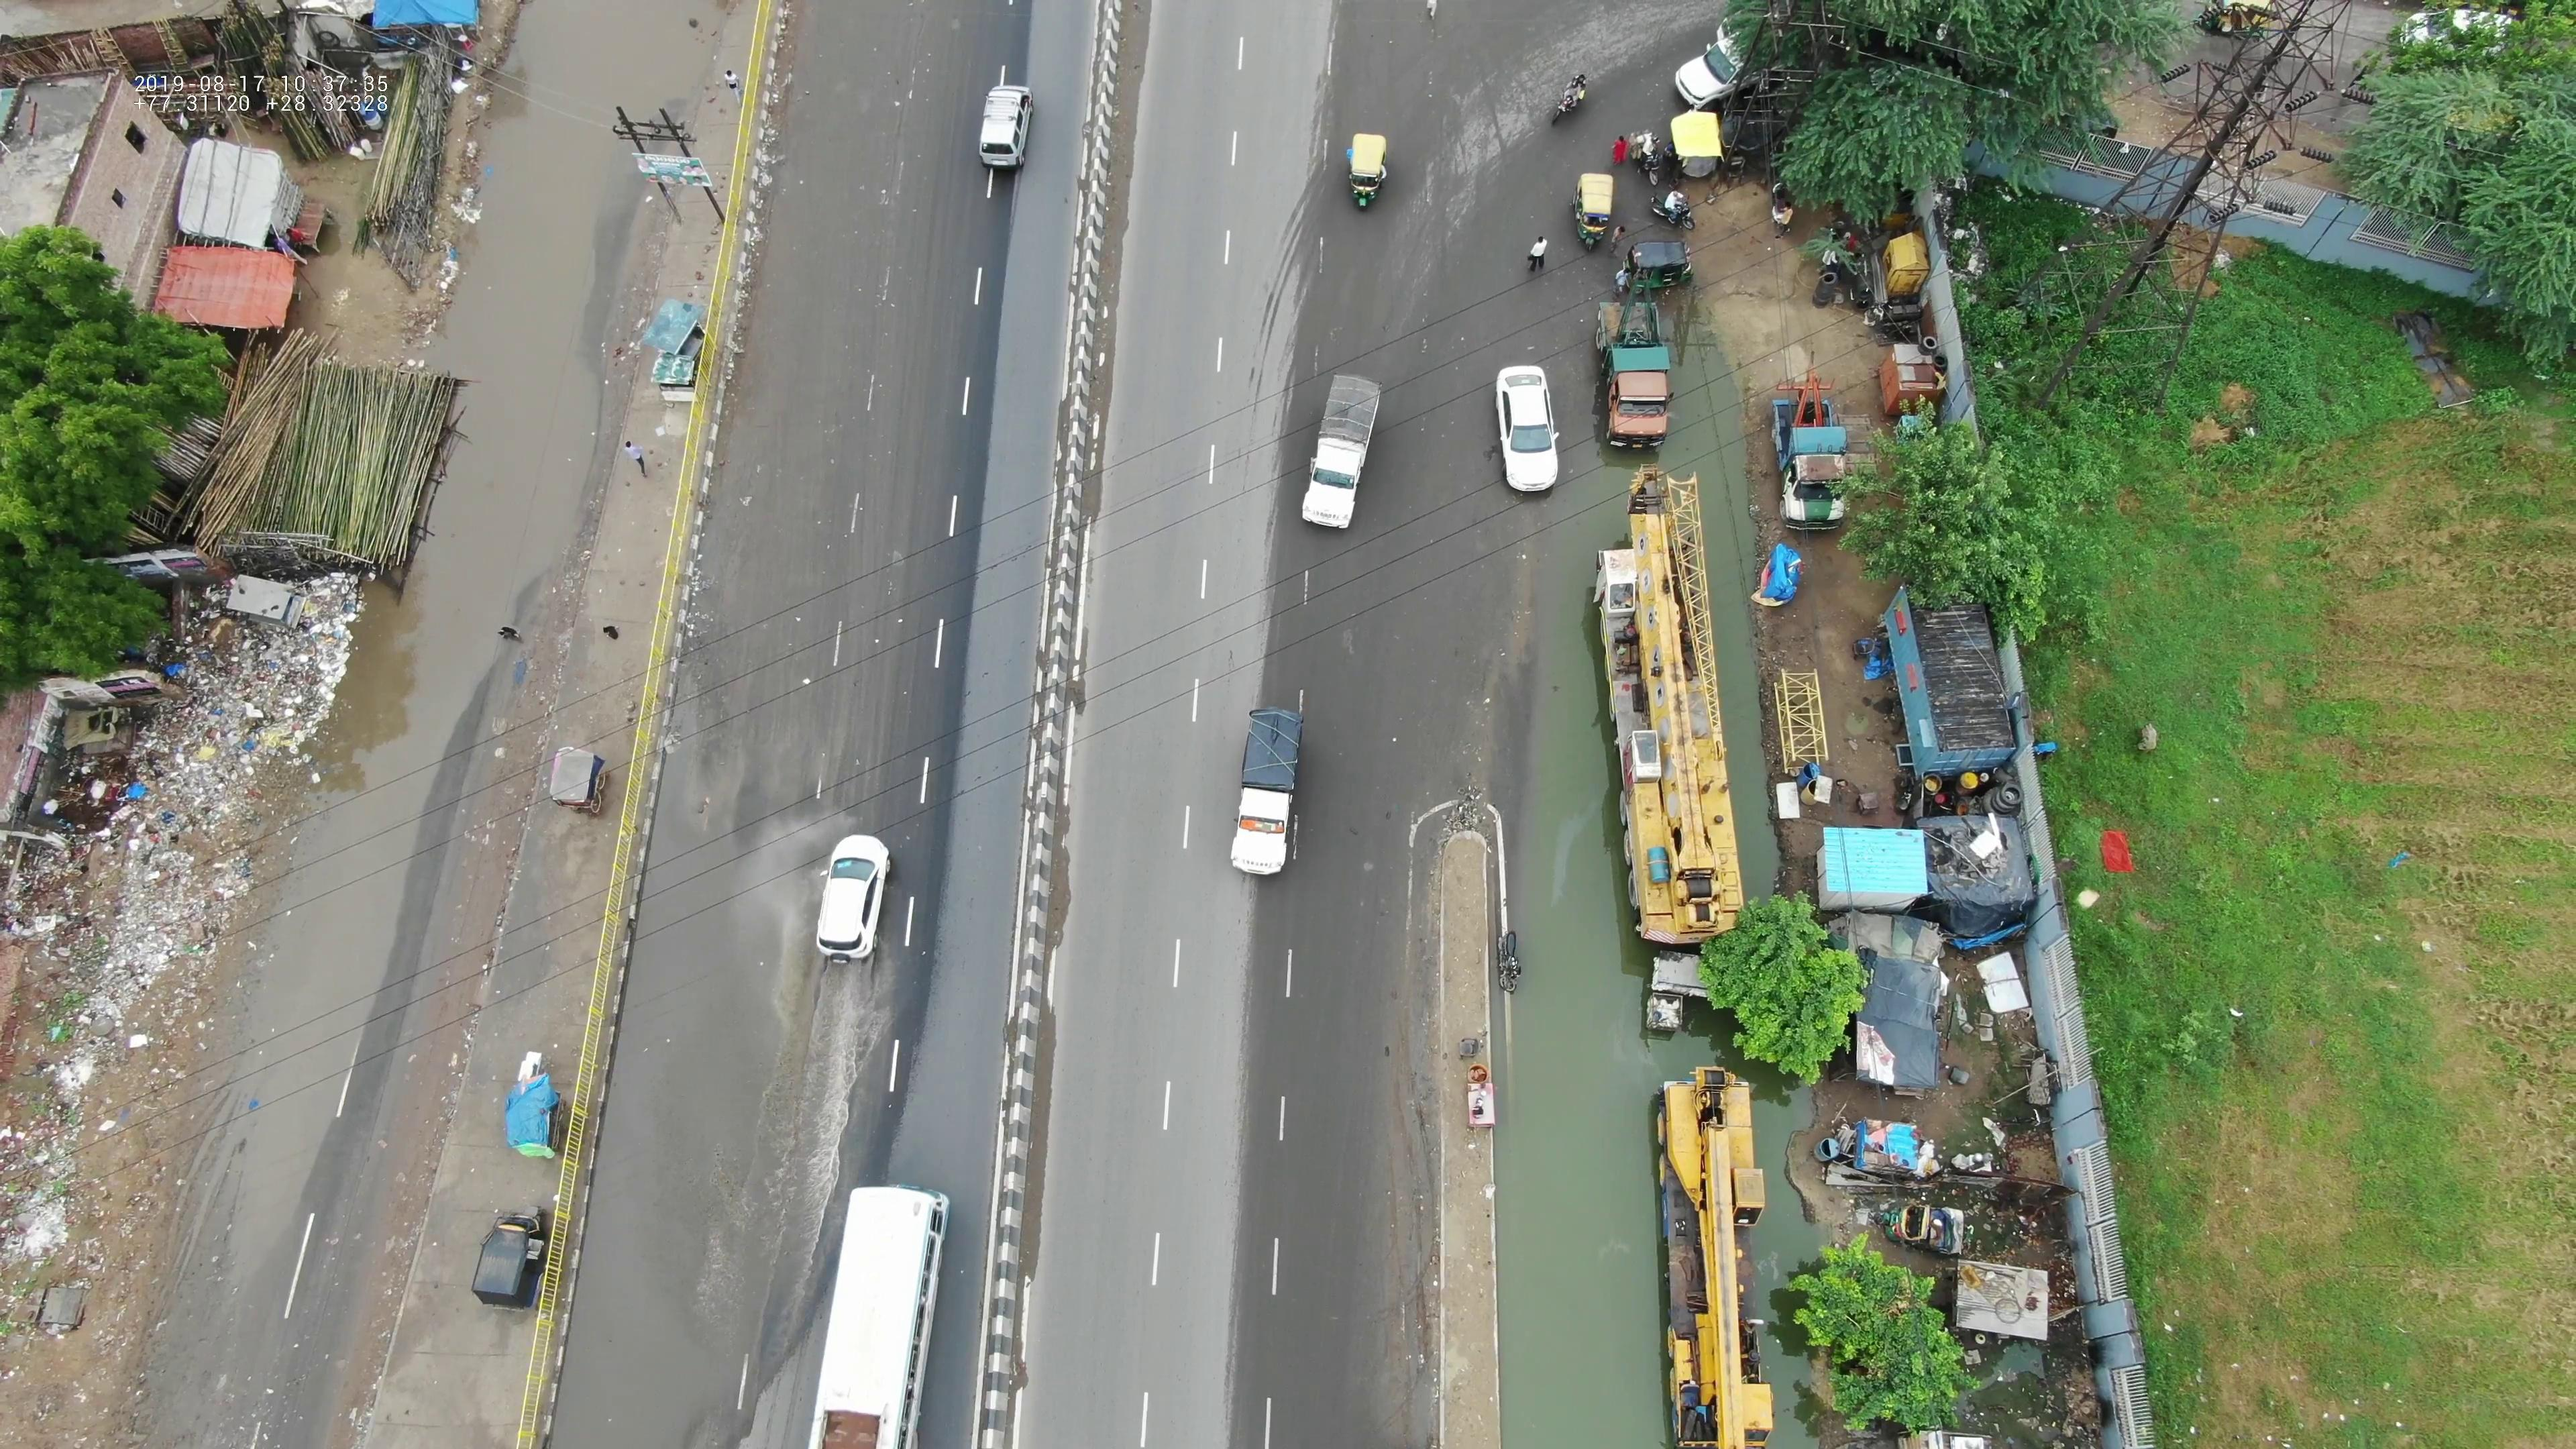Muddy_road: (1506, 869, 1799, 1440), (1525, 288, 1780, 847), (1366, 1065, 1445, 1405)
Road_side_garbage: (25, 591, 327, 996)
Waterlogging: (547, 794, 865, 1401), (449, 19, 704, 426), (336, 444, 571, 837), (177, 858, 419, 1219)
